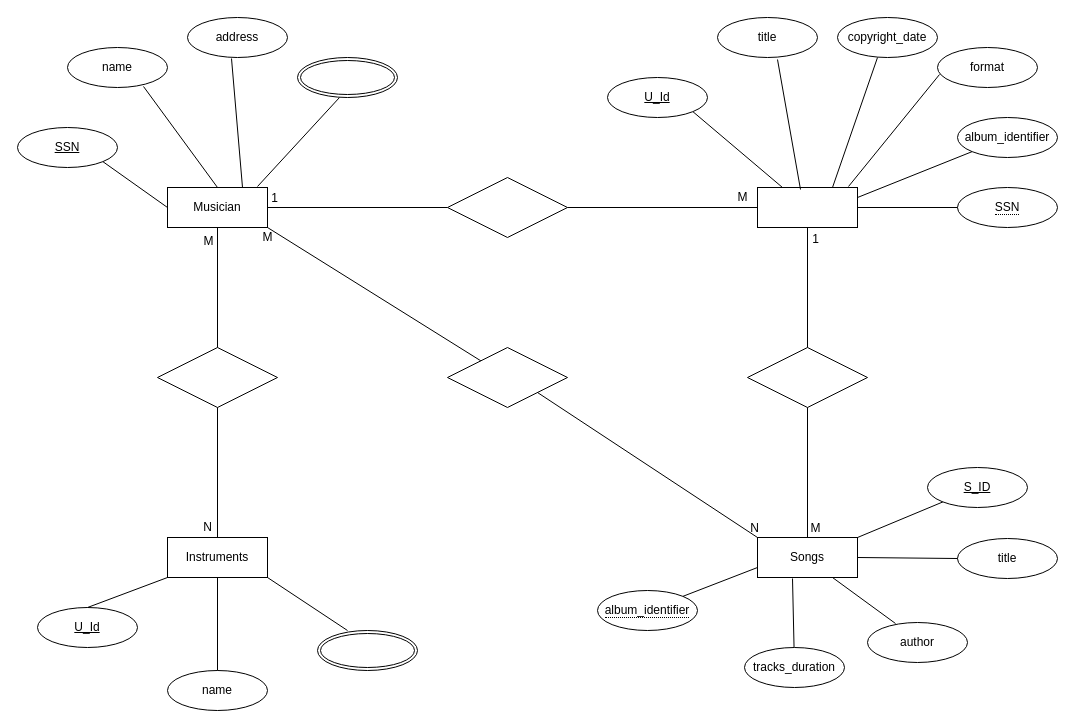
This 1075x728 diagram has some shape labels left out. Each missing label, with the box of its shape:
Album: (756, 186, 858, 228)
composes: (446, 346, 568, 408)
has: (746, 346, 868, 408)
Musical_key: (316, 630, 418, 670)
Phone: (296, 56, 398, 98)
play: (156, 346, 278, 408)
produces: (446, 176, 568, 238)
